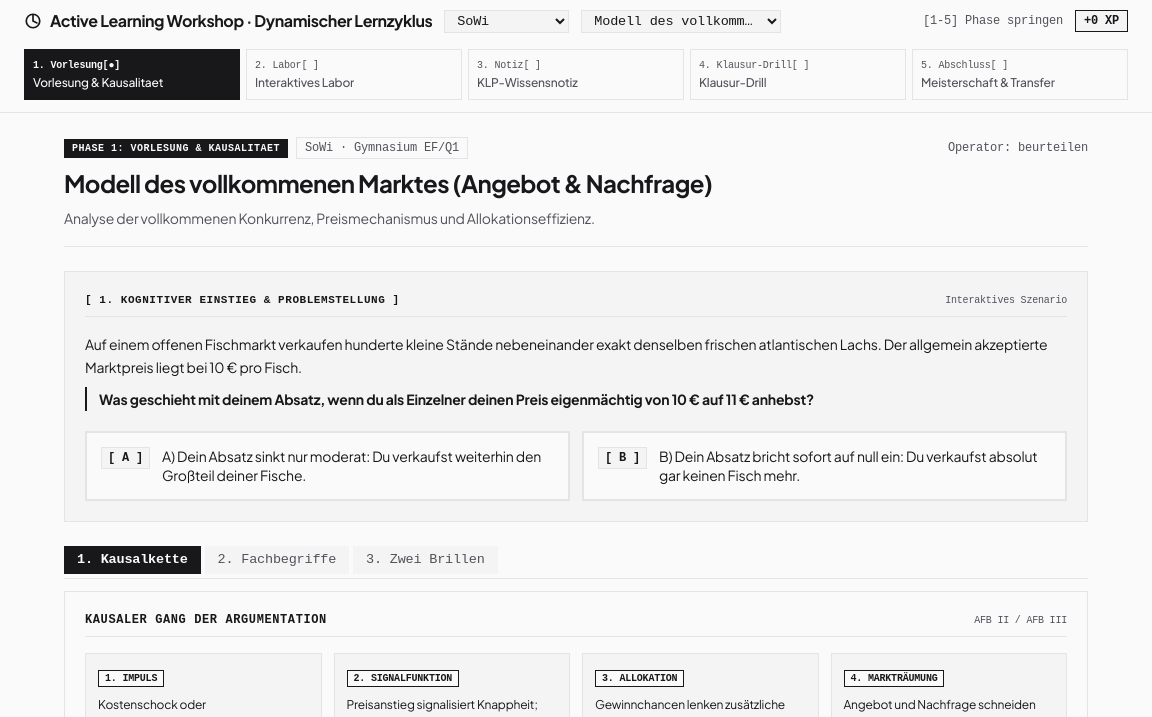
it: ActiveLearningWorkshop Component › interacts with quiz questions in Phase 4 and tracks answers
Note: 直接跳转至 Phase 4
What coordinates should you click on to do the following:
click the button "4. Klausur-Drill [ ] Klausur-Drill"
I would click on:
 (798, 74)
Its box is [690,49,906,100].
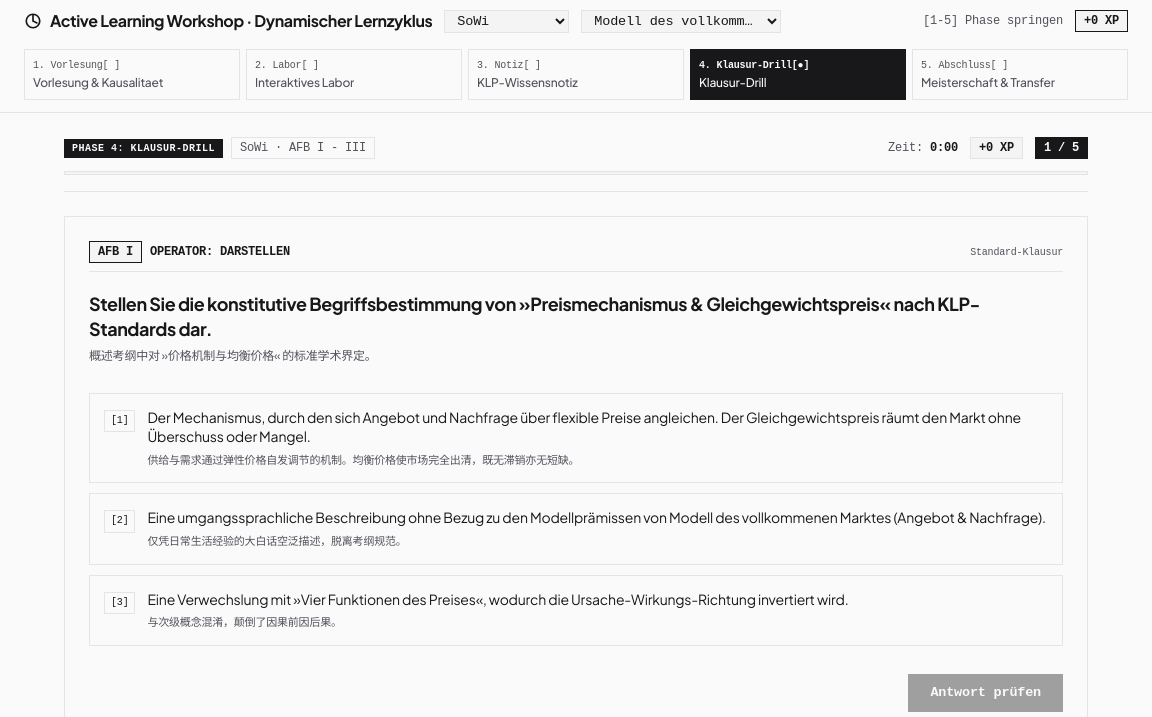
expect the text "Phase 4: Klausur-Drill" is shown: met, box [64,138,223,158]
Note: 选择第一个选项并提交检查
What coordinates should you click on to do the following:
click the button "[1]"
I would click on:
 (120, 421)
Its box is [89,393,1063,483].
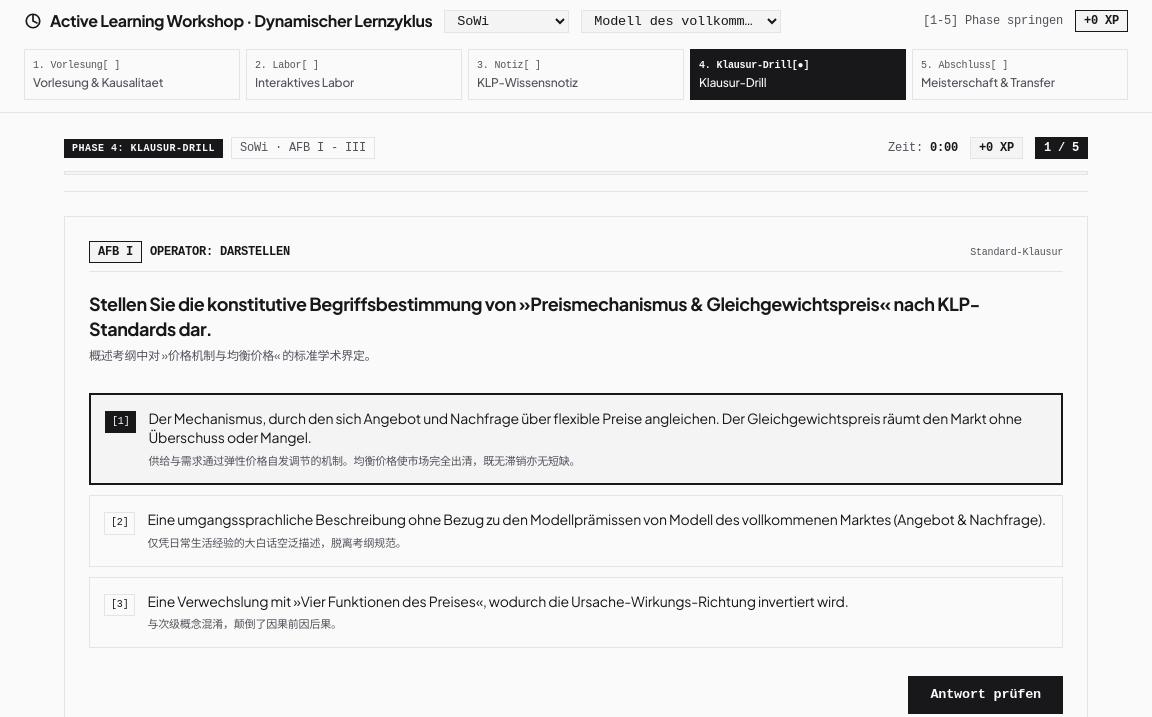
expect the button "Antwort prüfen" is enabled: met
What coordinates should you click on to do the following:
click the button "Antwort prüfen"
I would click on:
 (986, 695)
Its box is [908,676,1063,714].
(page scrolled)
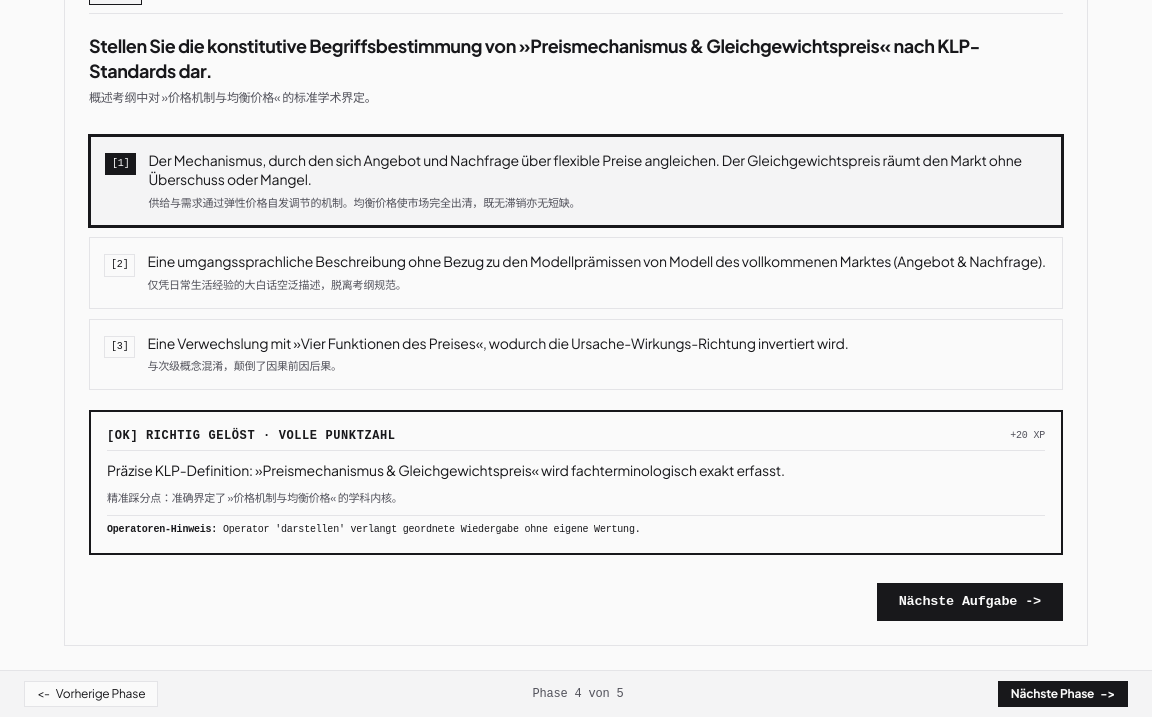
expect the button "Nächste Aufgabe ->" is shown: met, box [877,583,1063,621]
